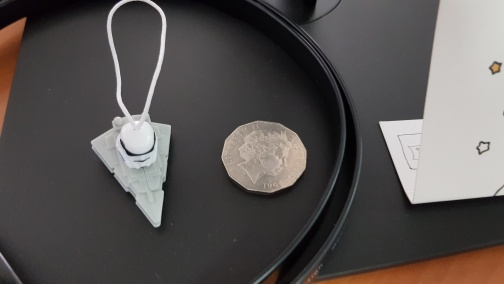coin: (221, 120, 307, 194)
